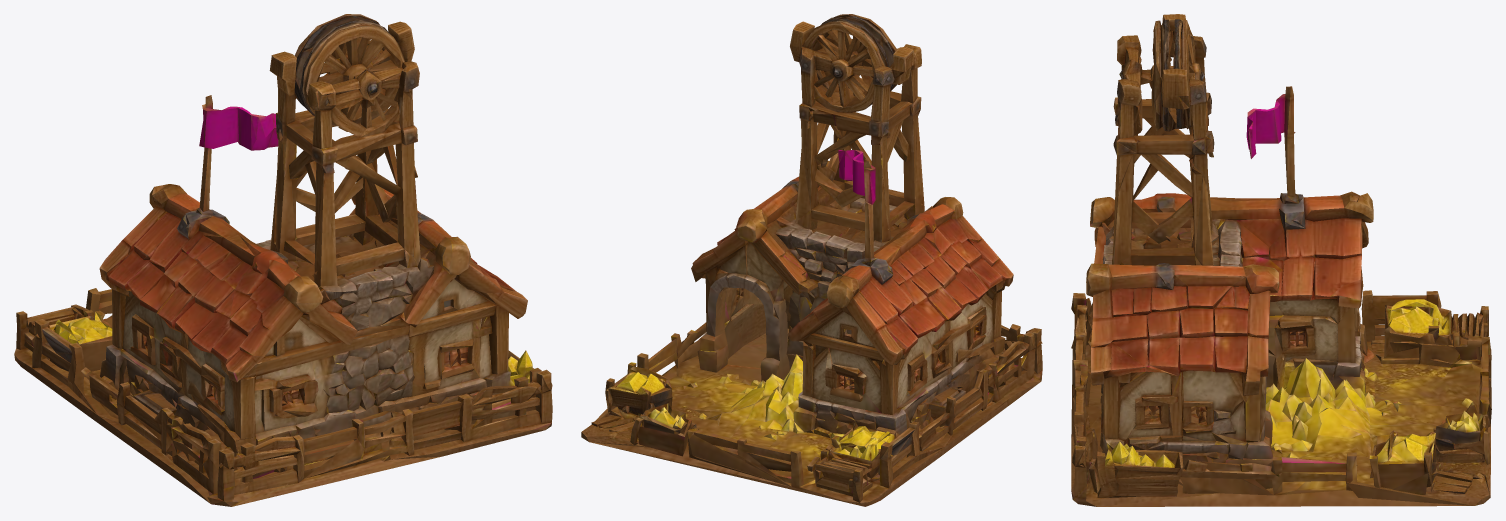
The model's file is sulfur_mine3.glb.
The picture shows the model from 3 angles, left to right: view 1: azimuth 30°, elevation 25°; view 2: azimuth 150°, elevation 25°; view 3: azimuth 270°, elevation 25°; orthographic projection. The views are drawn at different scales.
Parts seen in each view (by area): view 1: Mesh_0; view 2: Mesh_0; view 3: Mesh_0.
Boxes of the visible parts, <box> form: Mesh_0: <box>14,14,552,506</box>; Mesh_0: <box>581,14,1042,506</box>; Mesh_0: <box>1071,14,1491,506</box>.
Bounding box in the file's own units: 1.65 × 1.89 × 1.78.
1 material, 1 textured.
